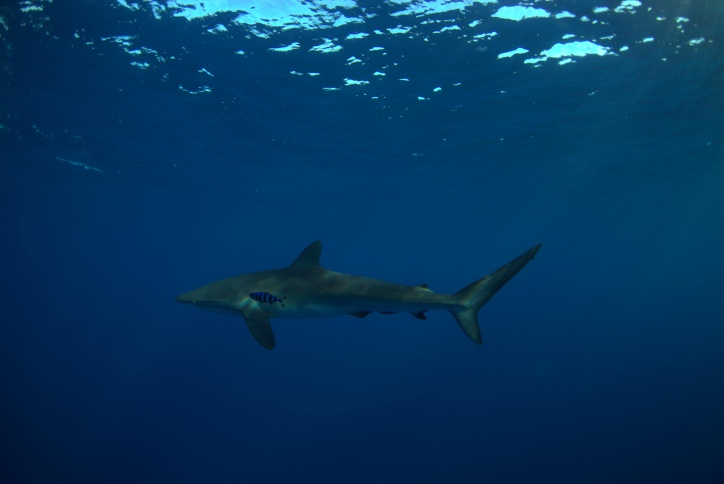Sedoso: (141, 229, 548, 360)
